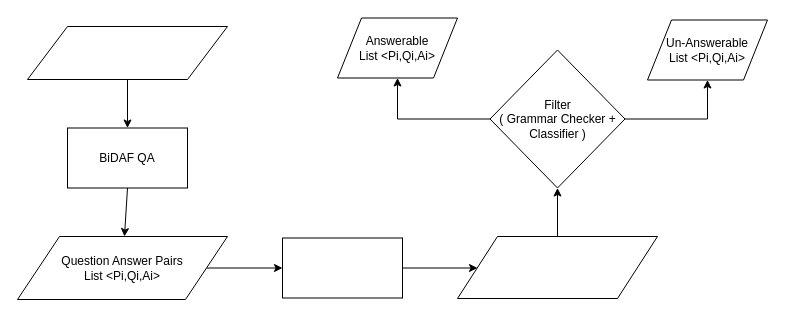
Some shapes in this 785 by 317 pixel diagram are drawn without their labels. The centre of each missing label's shape, as x and y in pixels:
"Labeled Questions List <Pi,Qi,Ai>" belongs at [557,267].
"QA Evalutaion" belongs at [342,267].
"Questions List <Pi,Qi>" belongs at [127,53].
